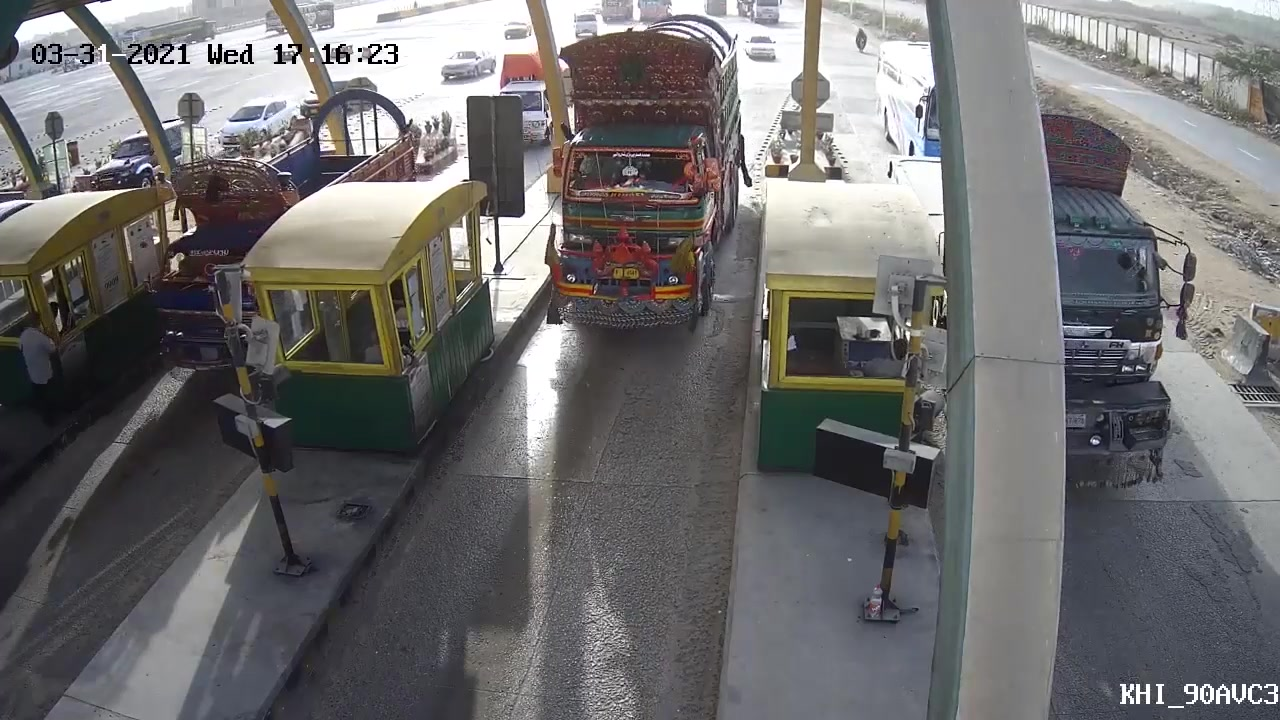F5: (533, 5, 755, 334)
